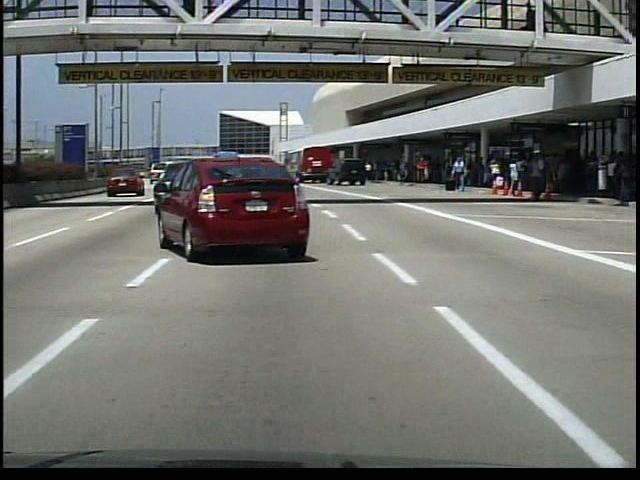person: (525, 153, 547, 205), (450, 155, 468, 194), (414, 156, 428, 185), (364, 163, 373, 181)
